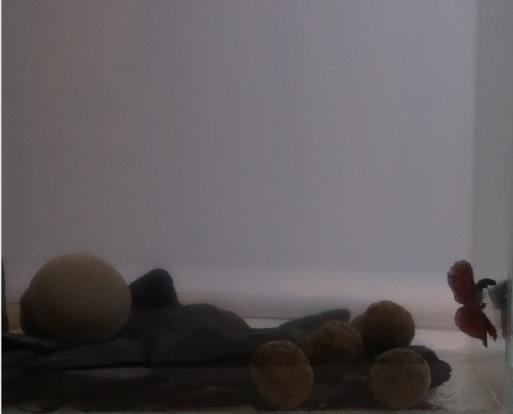fish: (445, 255, 500, 350)
